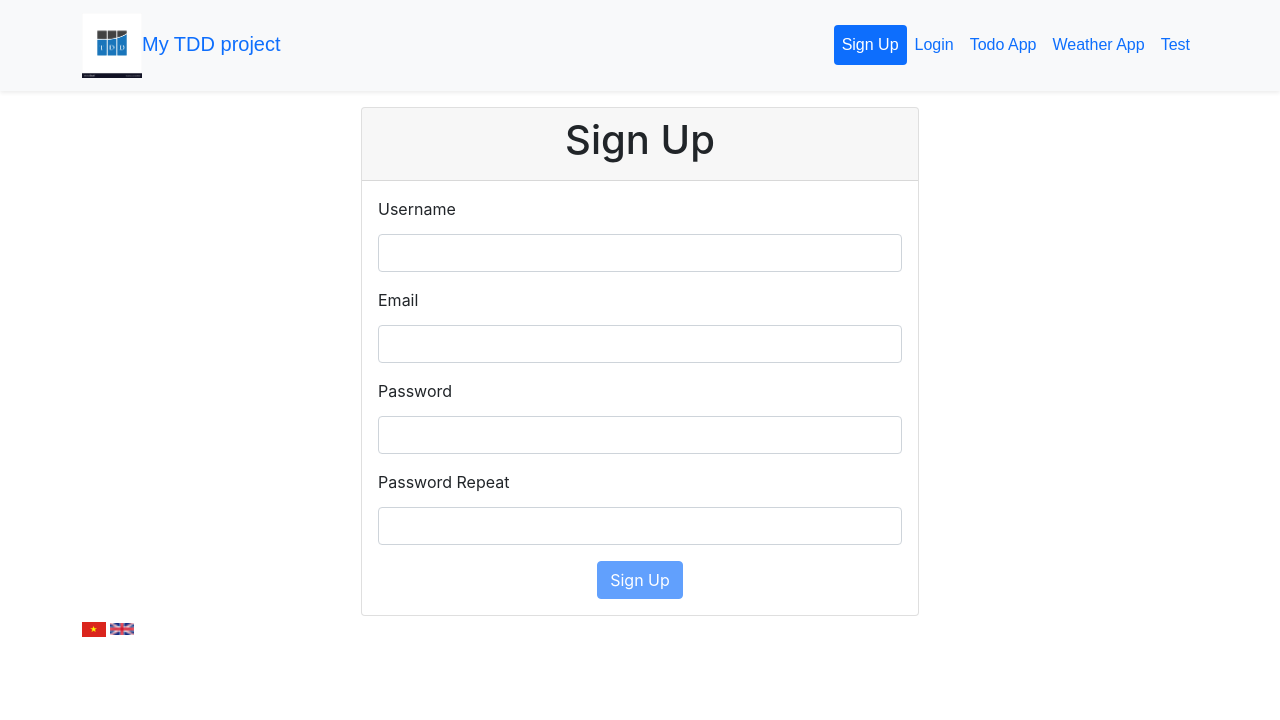
Scenario: routing › display home-page after clicking My TDD project My TDD project link
Click the link "My TDD project My TDD project": (181, 45) [82,8,280,83]
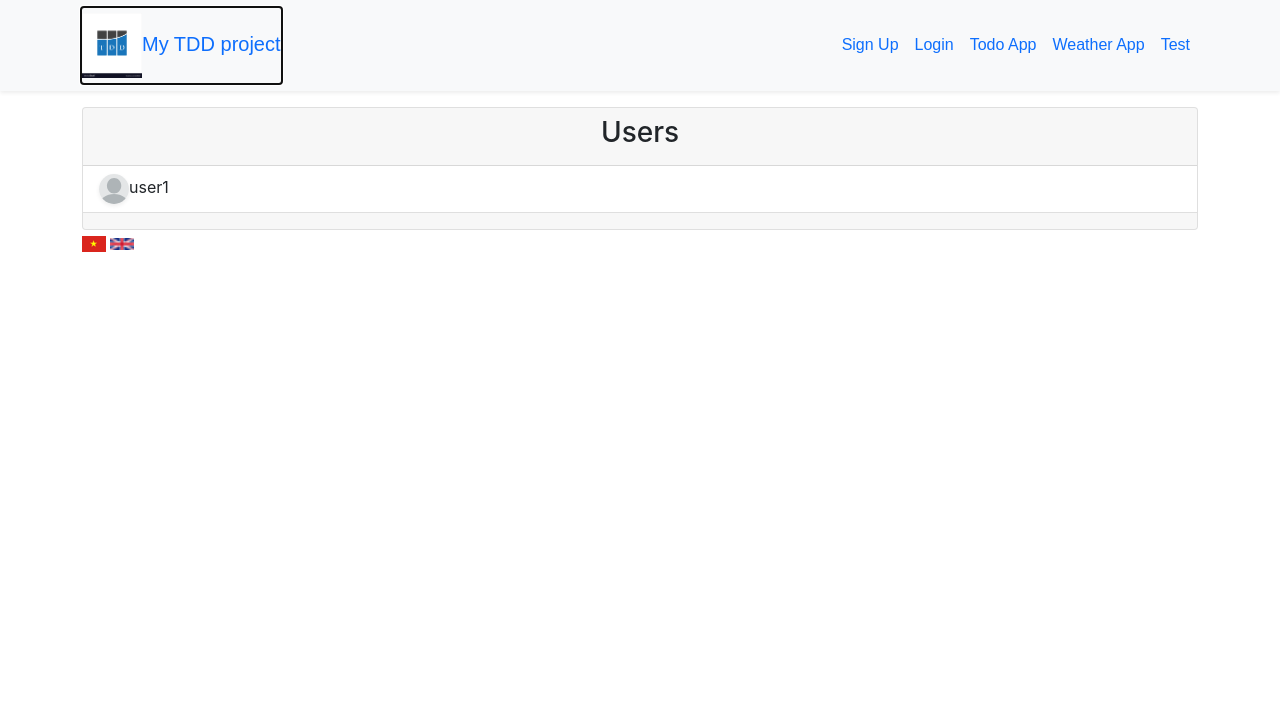
Expected: the element with test id "home-page" is shown, [82,107,1198,230]
